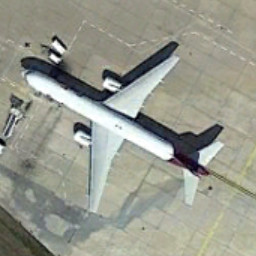Airplane: (8, 39, 239, 220)
